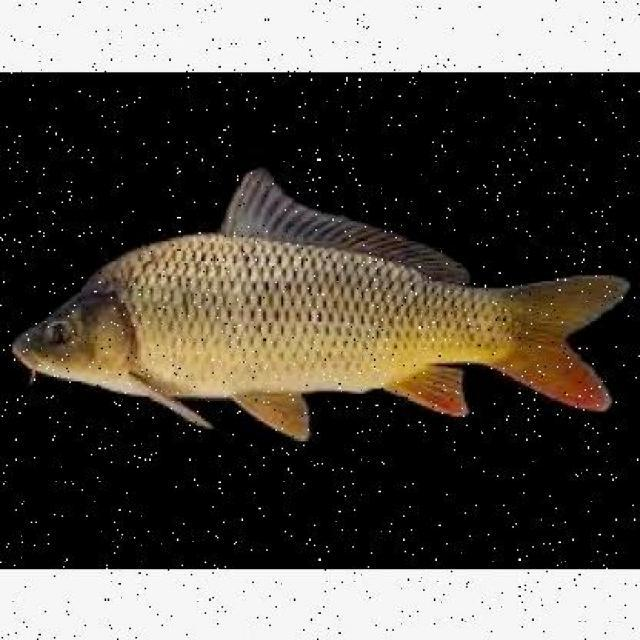ikan-mas: (5, 208, 632, 420)
